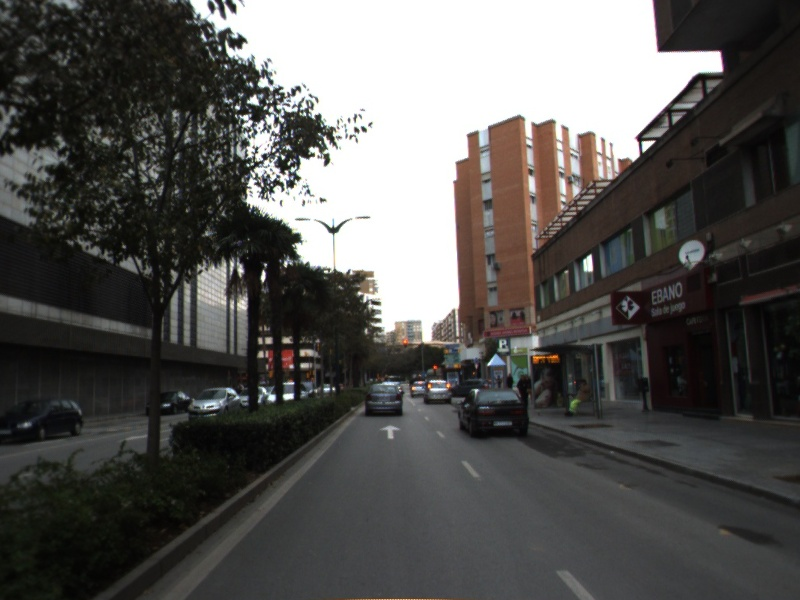STRAIGHT: (378, 423, 403, 441)
